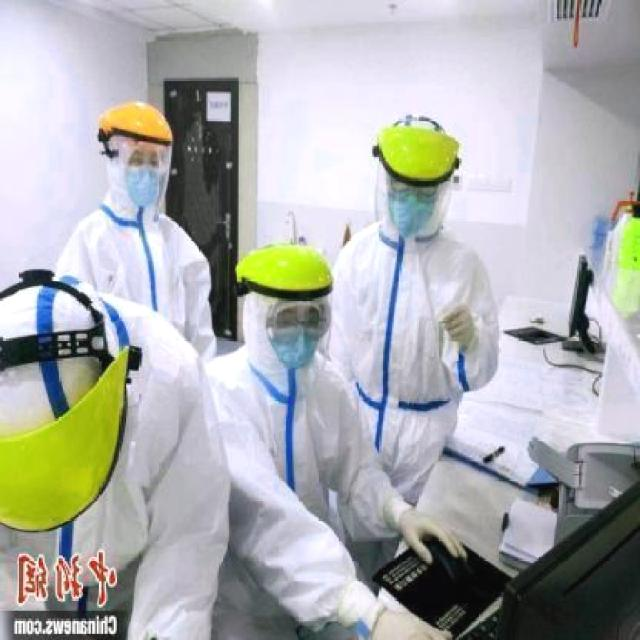face_mask: (389, 172, 445, 238), (268, 302, 318, 368), (122, 143, 164, 205)
glasses: (258, 292, 338, 343)
hand_glove: (399, 512, 466, 560), (363, 604, 454, 638), (438, 302, 476, 344)
head_helmet: (237, 224, 332, 296), (366, 117, 460, 186), (100, 97, 174, 151)
person: (316, 112, 507, 520), (199, 229, 363, 640), (35, 100, 211, 320)
